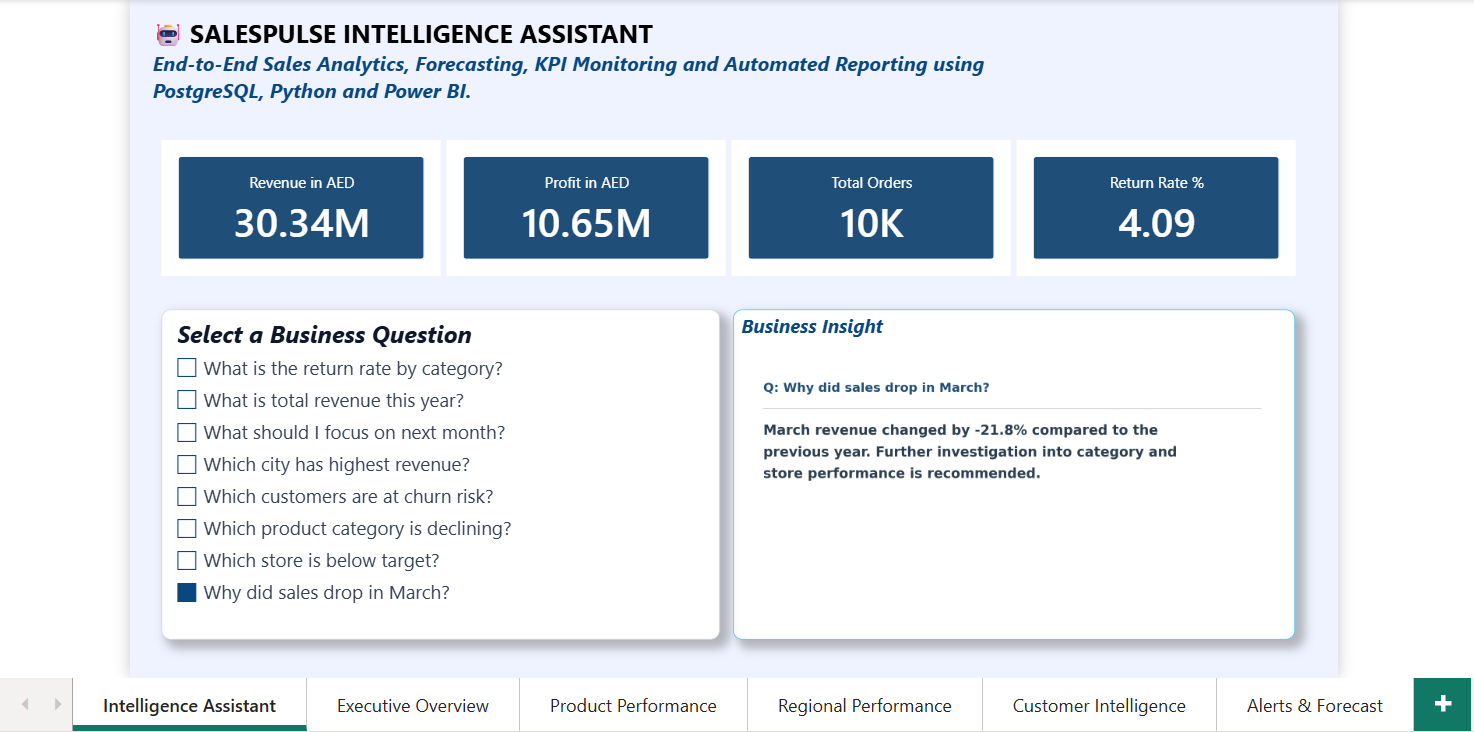

Layout of this report page (visuals, bound fields, positions):
{"tool":"powerbi","page":{"name":"Intelligence Assistant","canvas":[1280,720],"ordinal":0},"visuals":[{"type":"pythonVisual","title":"Business Insight","fields":{"Values":["Questions.Question"]},"box":[640,330,596,350],"z":0},{"type":"slicer","fields":{"Values":["Questions.Question"]},"box":[34,330,592,350],"z":1000},{"type":"textbox","box":[19.1,12.7,919.4,106.6],"z":2000},{"type":"cardVisual","fields":{"Data":["Fact_Sales.Total Revenue"]},"box":[34,148.8,296,144],"z":3000},{"type":"cardVisual","fields":{"Data":["Fact_Sales.Total Profit"]},"box":[335.2,148.9,296,144],"z":4000},{"type":"cardVisual","fields":{"Data":["Fact_Sales.Total Orders"]},"box":[637.8,148.9,296,144],"z":5000},{"type":"cardVisual","fields":{"Data":["Fact_Sales.Return Rate %"]},"box":[940.3,148.9,296,144],"z":6000}]}

Visuals, with their boxes on the page's 1280x720 design canvas (x1, y1, x2, y2). These are canvas units, not pixel positions in the 1474x732 screenshot, which may show the page scaled, cropped or inside an application window:
"Business Insight" pythonVisual: 640/330/1236/680
slicer - Questions.Question: 34/330/626/680
textbox: 19/13/938/119
cardVisual - Fact_Sales.Total Revenue: 34/149/330/293
cardVisual - Fact_Sales.Total Profit: 335/149/631/293
cardVisual - Fact_Sales.Total Orders: 638/149/934/293
cardVisual - Fact_Sales.Return Rate %: 940/149/1236/293
